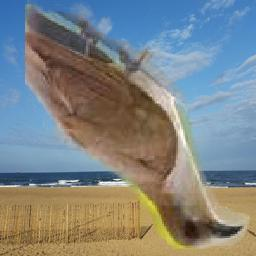Cuckoo: (26, 1, 251, 250)
